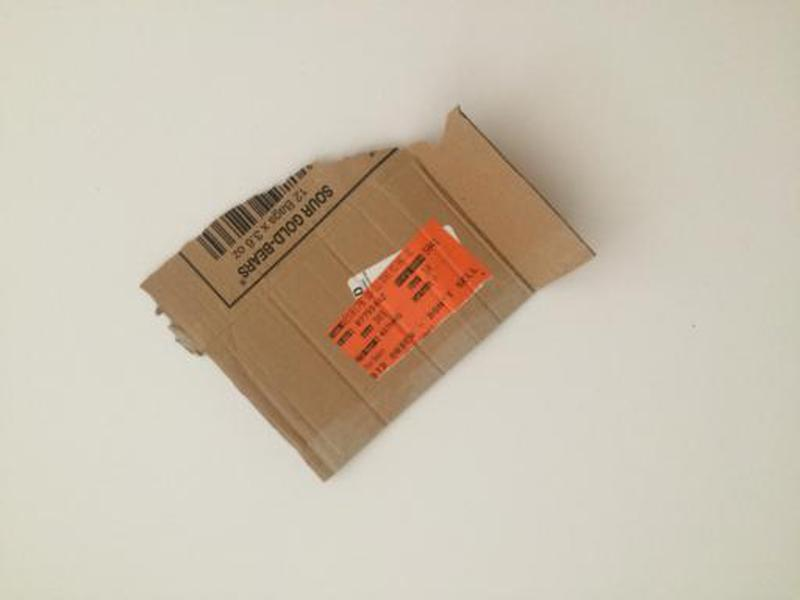cardboard: (140, 103, 607, 485)
